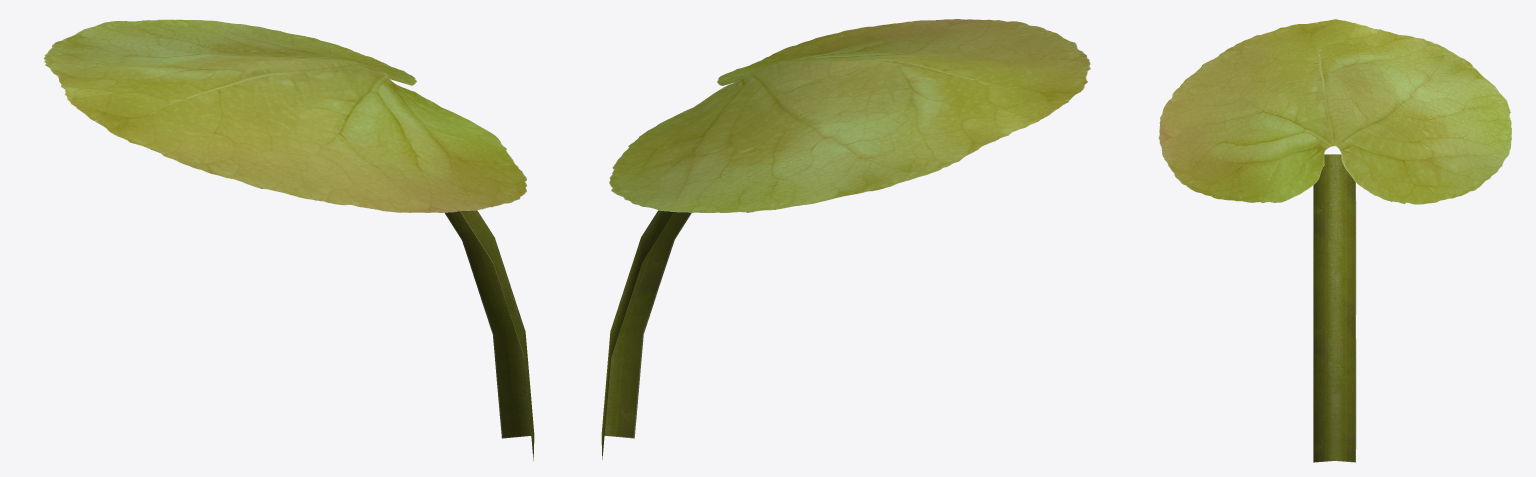
The model's file is Round2.fbx.
3 renders of one model, left to right at view 1: azimuth 30°, elevation 25°; view 2: azimuth 150°, elevation 25°; view 3: azimuth 270°, elevation 25°, orthographic. The views are drawn at different scales.
Visible parts, largest first — view 1: Round2; view 2: Round2; view 3: Round2.
Boxes of the visible parts, left/top/right/bottom form: Round2: left=43, top=19, right=534, bottom=460; Round2: left=601, top=19, right=1090, bottom=459; Round2: left=1158, top=19, right=1511, bottom=462.
Bounding box in the file's own units: 0.5333 × 0.4875 × 0.5444.
